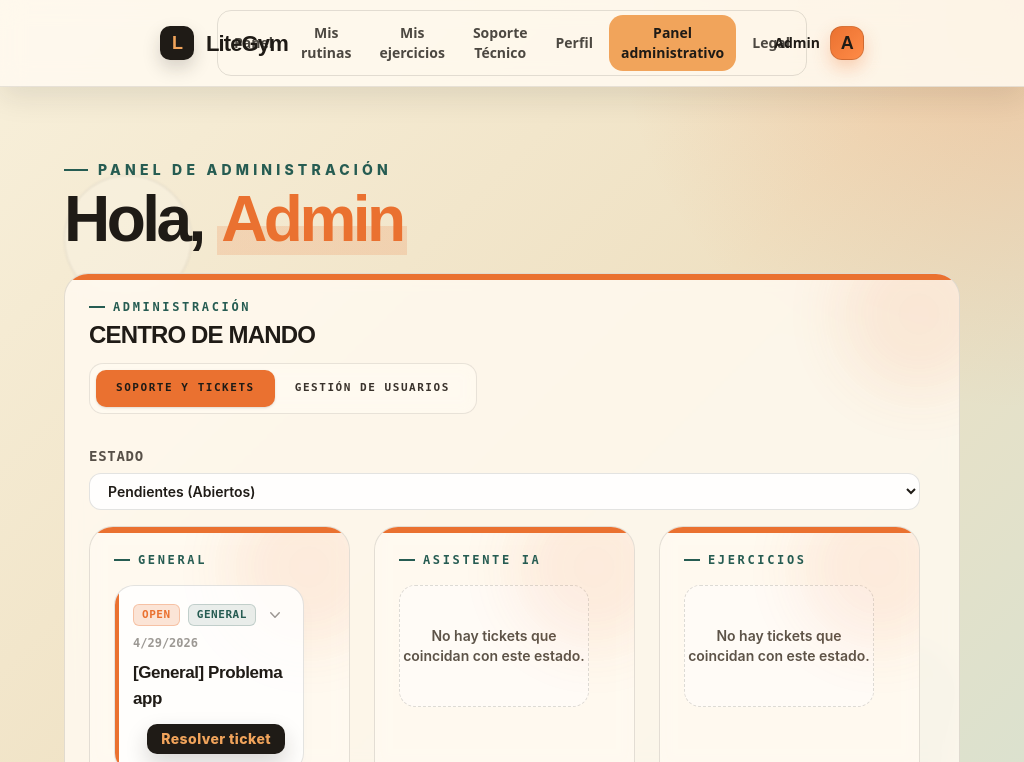
Test: AdminPage › deletes a user after confirmation
Click the button "Gestión de Usuarios" at (372, 388), box 275,370 -> 470,407
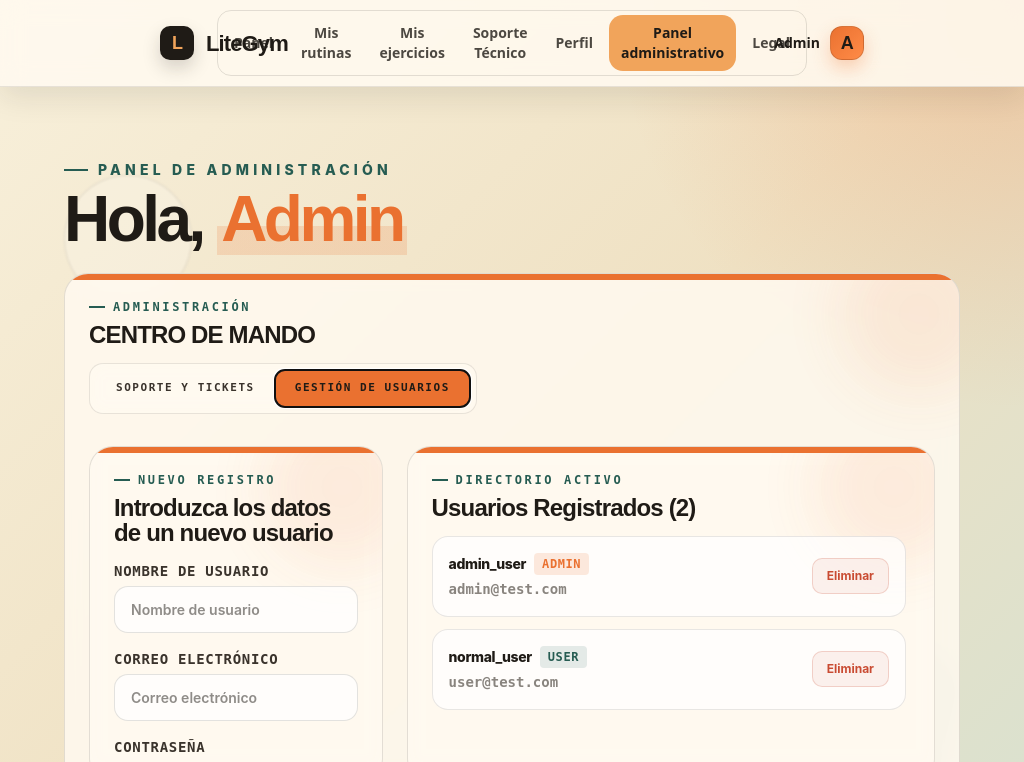
Click the button "Eliminar" in the row of "admin@test.com" at (850, 576), box 812,558 -> 889,594
(page scrolled)
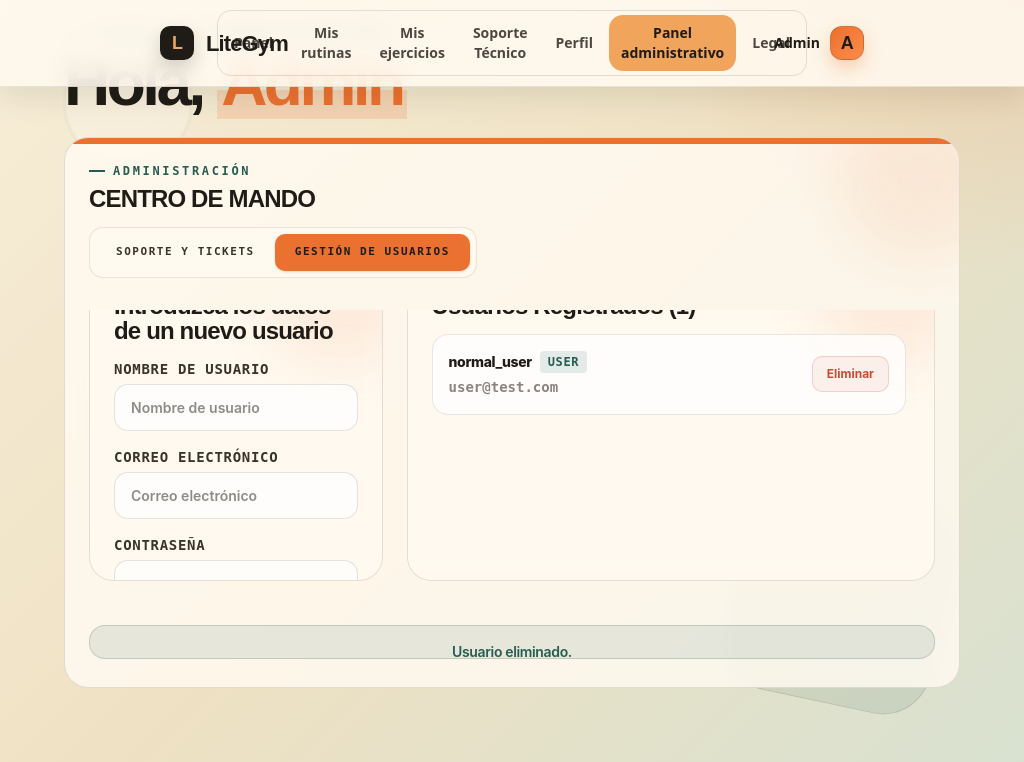
Check: the text "Usuario eliminado." is shown, box 89,626 -> 935,660
